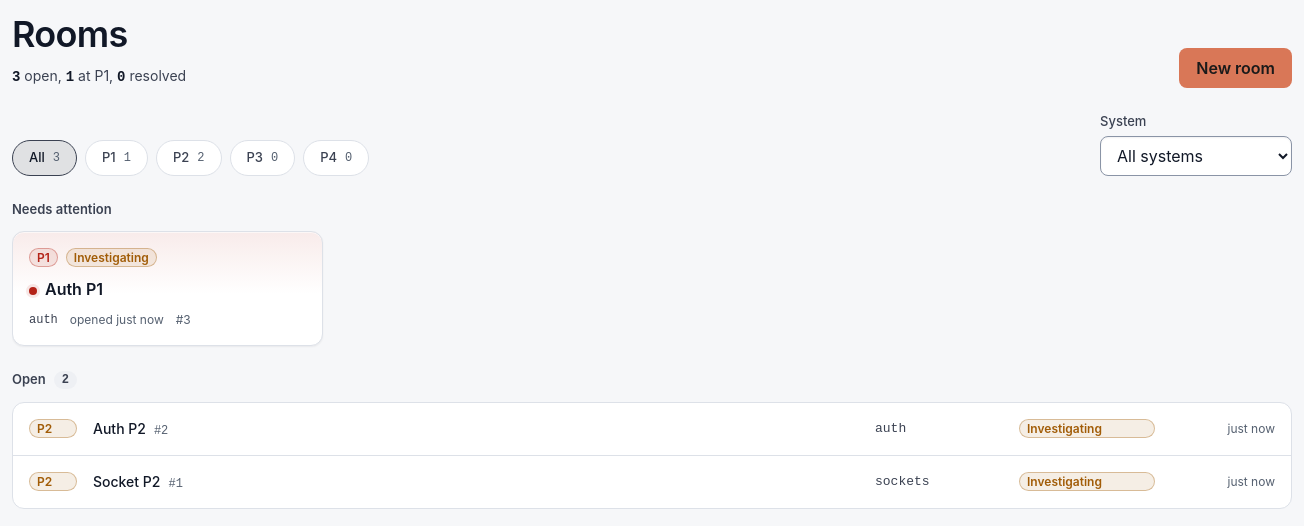
Scenario: RoomsPage › filters by severity and system, with counts on the chips, and clears back to everything
The width and height of the screenshot is (1304, 526).
Step 1. Click the button "P2 2" → (189, 158), box [156, 140, 222, 176]
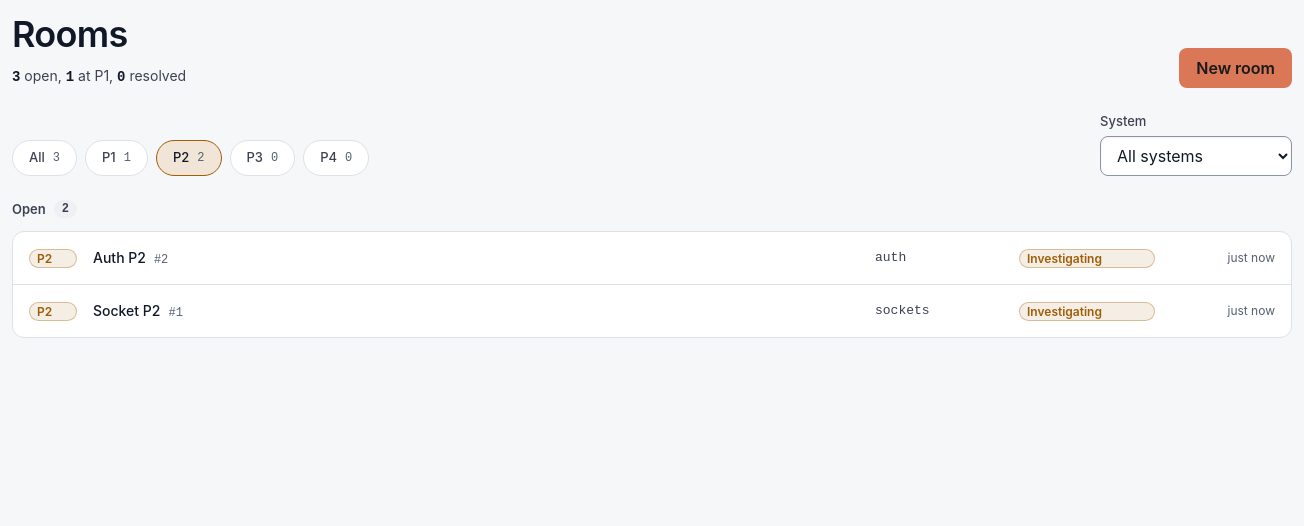
Expected: the number of links "P2 Auth P2 #2 auth Investigating just now" is 2, [29, 248, 1275, 268]; [29, 302, 1275, 320]
Expected: the link "Auth P1" is gone
Step 2. Select "sockets" in the dropdown labelled "System" → (1196, 156), box [1100, 136, 1292, 176]
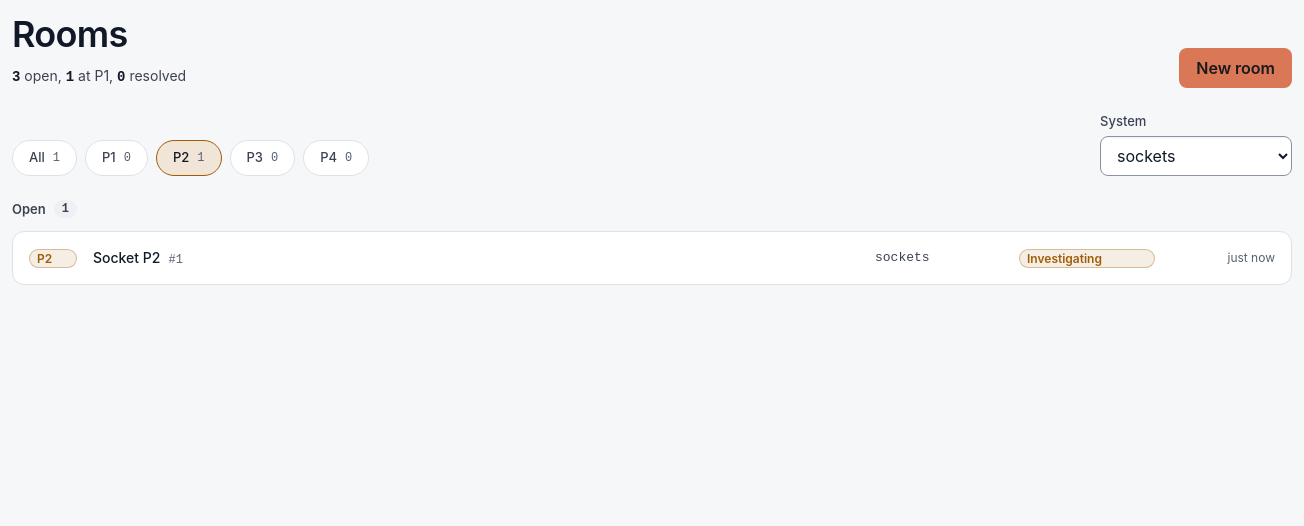
Expected: the button "P1 0" is shown
Step 3. Click the button "P1 0" → (116, 158), box [85, 140, 148, 176]
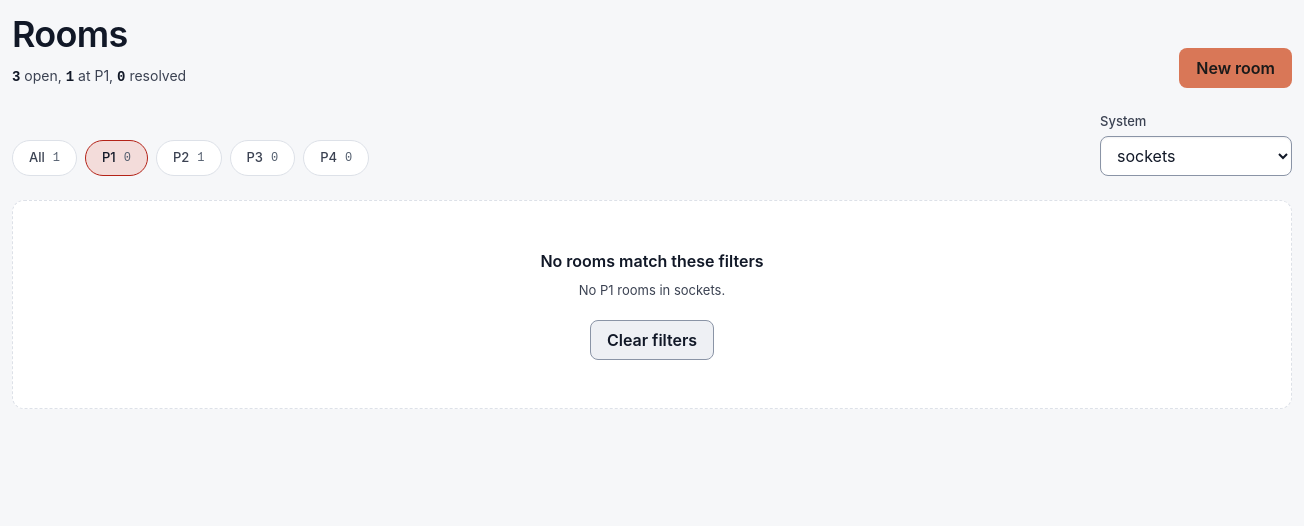
Expected: the text "No P1 rooms in sockets." is shown, [579, 280, 725, 300]
Step 4. Click the button "Clear filters" → (652, 340), box [590, 320, 714, 360]
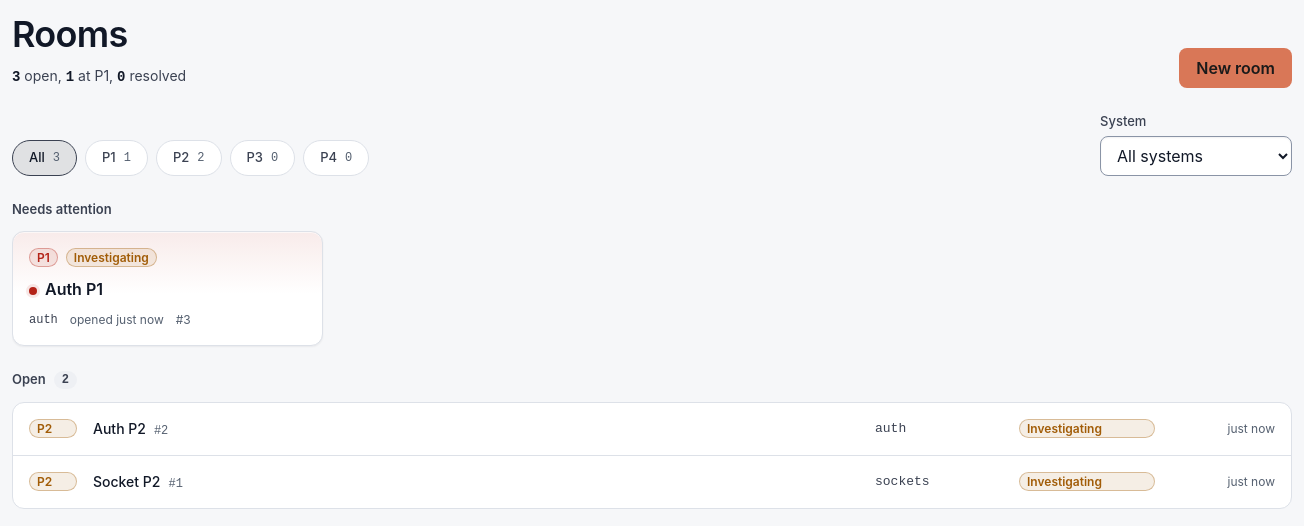
Expected: the number of links "P1 Investigating Auth P1 auth opened just now #3" is 3, [12, 231, 323, 346]; [29, 419, 1275, 438]; [29, 472, 1275, 491]
